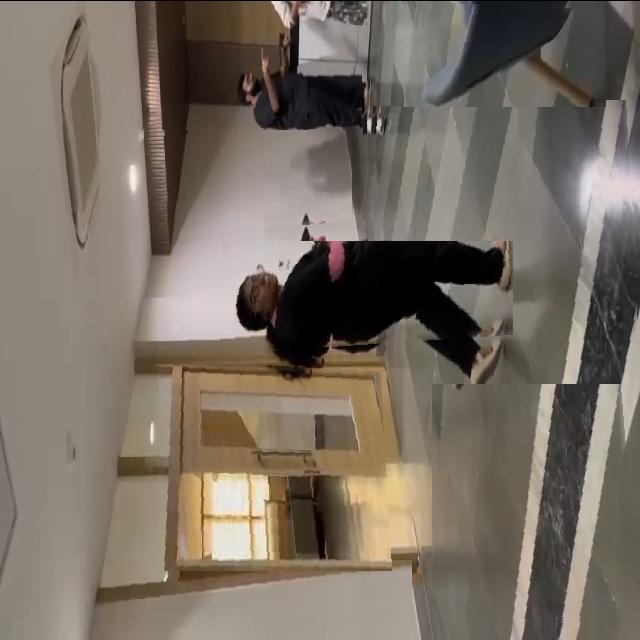door: (159, 357, 393, 570)
floor: (432, 382, 640, 628), (503, 99, 640, 370), (362, 105, 518, 242)
furniture: (399, 0, 606, 106)
moving_object: (210, 240, 513, 354), (242, 65, 363, 165)
wall: (105, 559, 412, 640), (158, 129, 352, 237)
